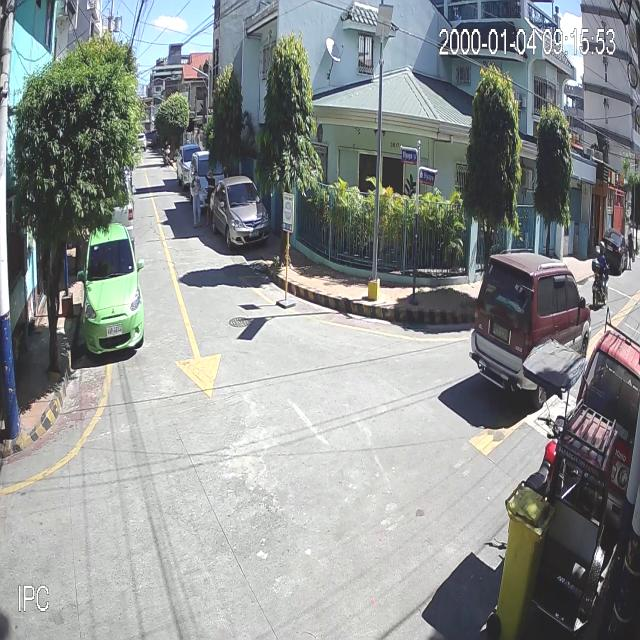walking: (190, 168, 203, 228), (204, 169, 216, 226), (626, 232, 634, 269)
